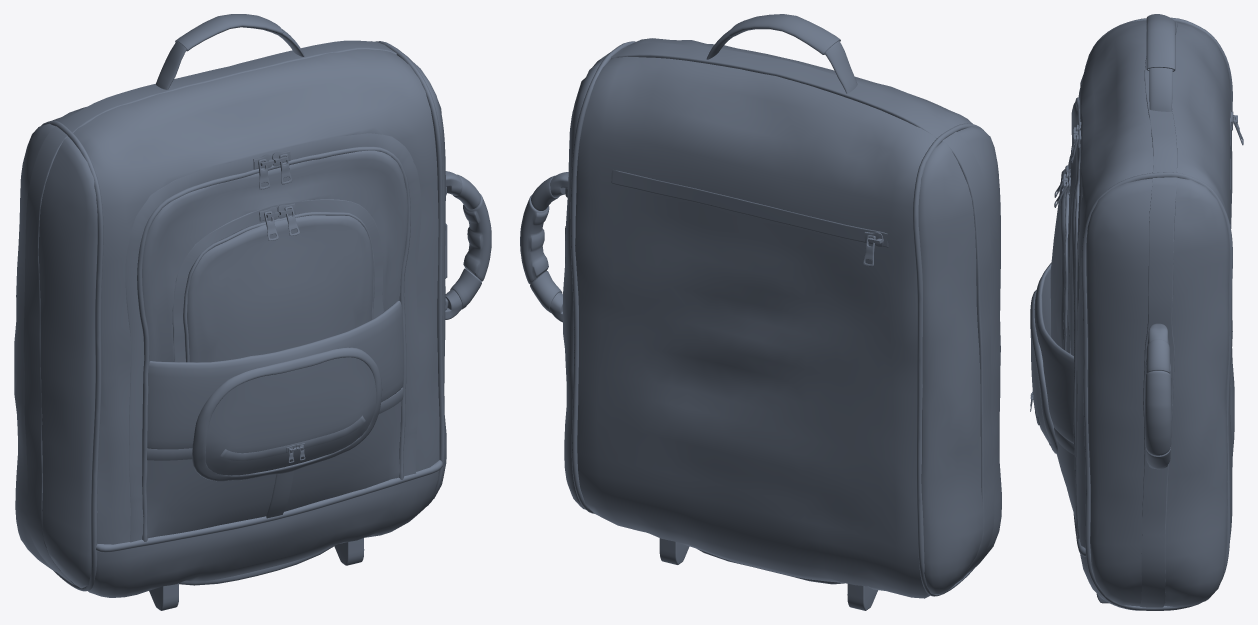
The model's file is backpack.obj.
The picture shows the model from 3 angles, left to right: view 1: azimuth 30°, elevation 25°; view 2: azimuth 150°, elevation 25°; view 3: azimuth 270°, elevation 25°; orthographic projection. The views are drawn at different scales.
Visible parts, largest first — view 1: node_id42_Mesh_0; view 2: node_id42_Mesh_0; view 3: node_id42_Mesh_0.
Boxes of the visible parts, left/top/right/bottom form: node_id42_Mesh_0: left=14, top=14, right=491, bottom=610; node_id42_Mesh_0: left=520, top=14, right=1001, bottom=610; node_id42_Mesh_0: left=1030, top=14, right=1243, bottom=610.
Size of the model in its own units: 0.4491 by 0.512 by 0.1867.
